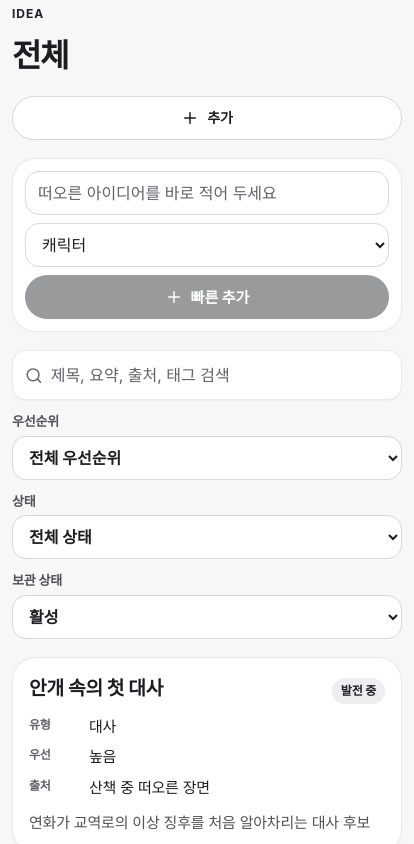
Scenario: Task 12 Idea pages › chooses the type when quick-adding from idea00 and filters by status and priority
This screenshot has width=414, height=844.
Expected: the text "안개 속의 첫 대사" is shown, [29,676,163,700]
Type "산속 폐사찰" into the field with placeholder "떠오른 아이디어를 바로 적어 두세요" at coordinates (207, 193), box [25,171,389,215]
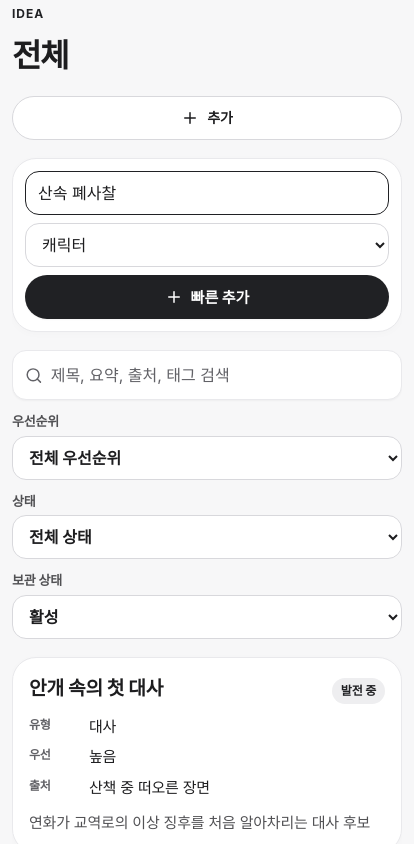
Select "장소" in the dropdown named "빠른 추가 유형" at coordinates (207, 245), box [25,223,389,267]
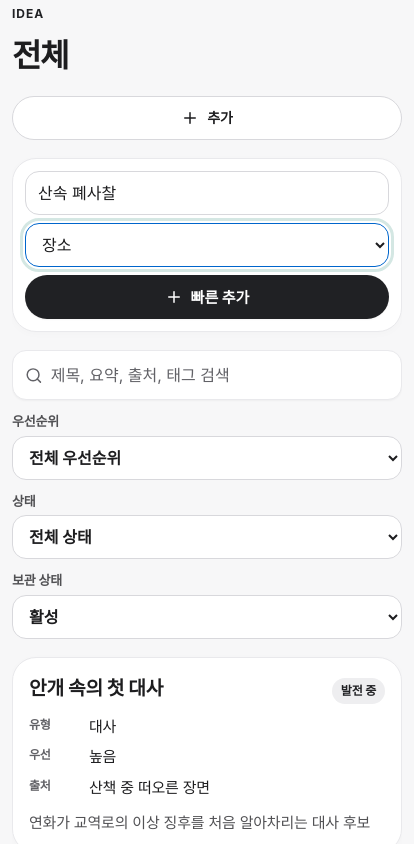
Click the button "빠른 추가" at coordinates (207, 297), box [25,275,389,319]
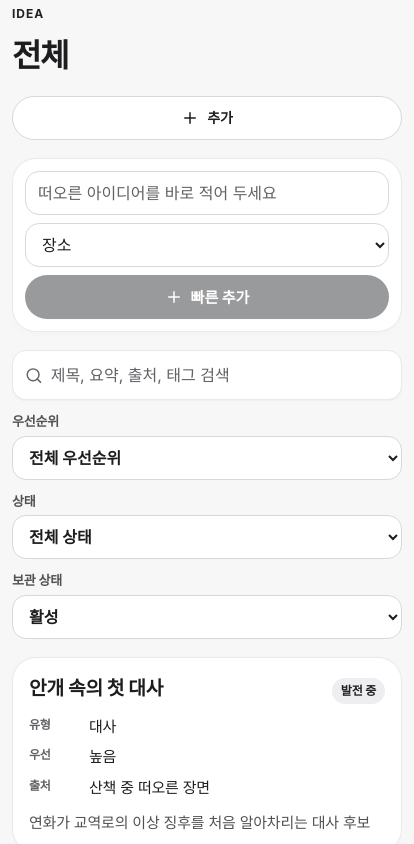
Select "씨앗" in the dropdown named "아이디어 상태 필터" at coordinates (207, 537), box [12,515,402,559]
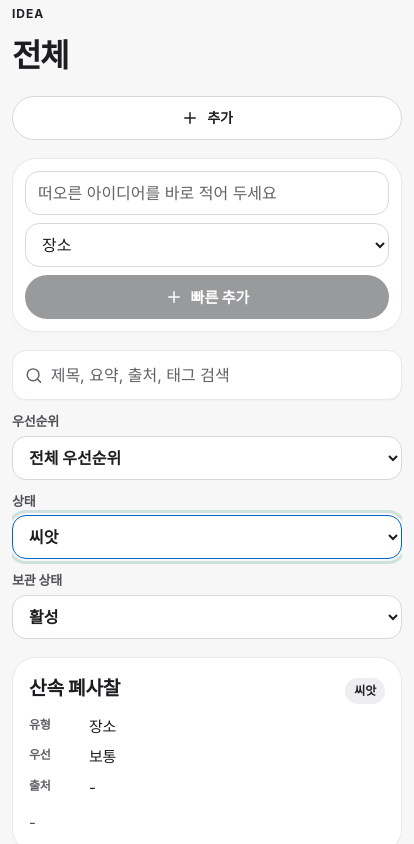
Result: the link "안개 속의 첫 대사" is gone
Select "높음" in the dropdown named "아이디어 우선순위 필터" at coordinates (207, 458), box [12,436,402,480]
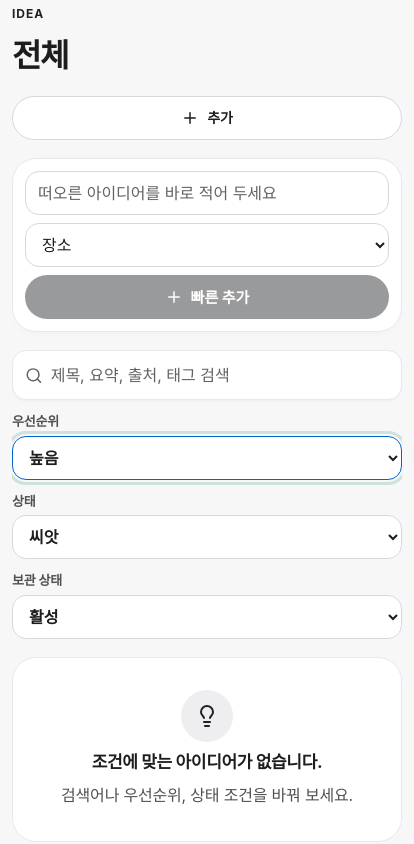
Result: the heading "조건에 맞는 아이디어가 없습니다." is shown at [92,750,322,775]
